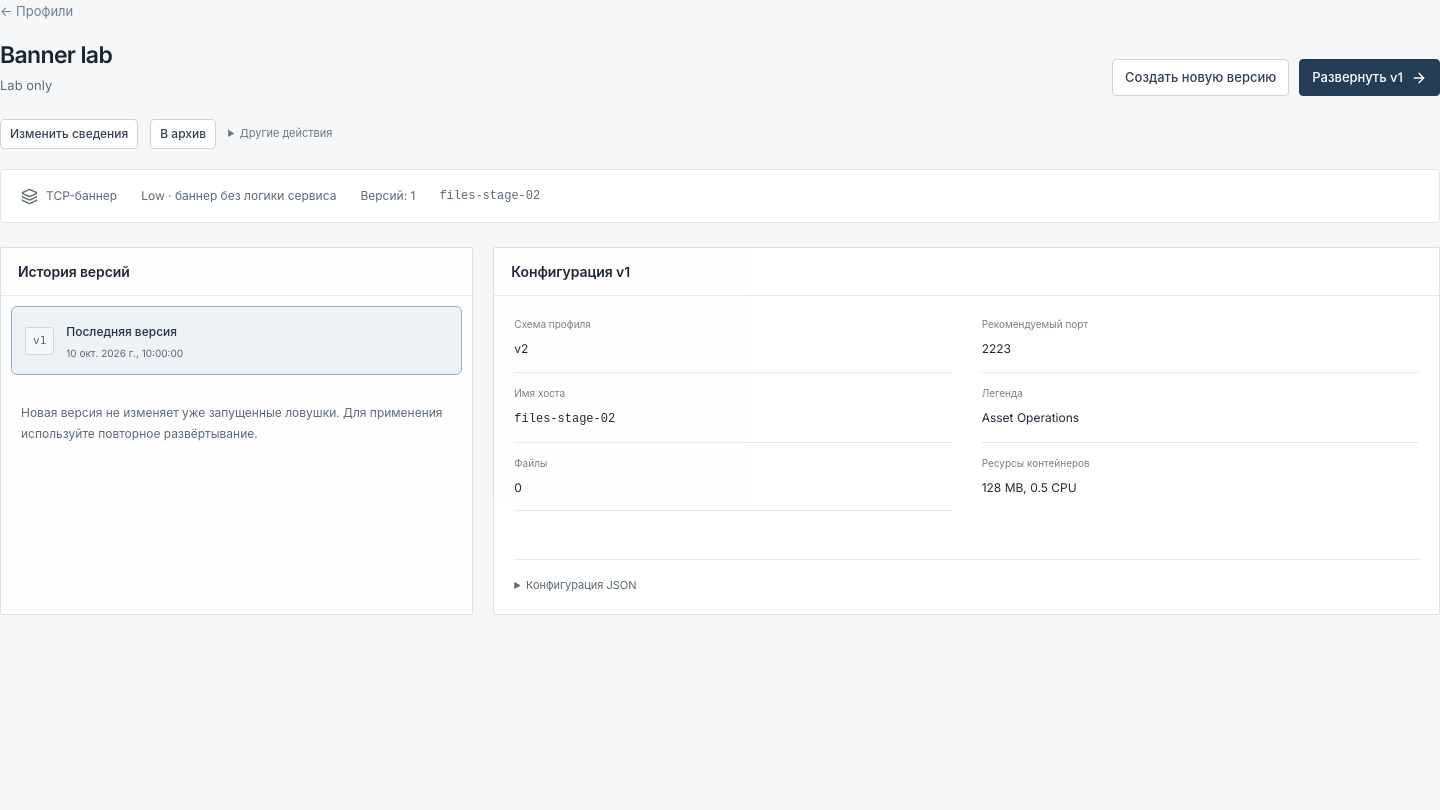
profile lifecycle › keeps an in-use profile after actual server deletion rejection
Click the heading "Другие действия" at (280, 134), box [228,124,332,144]
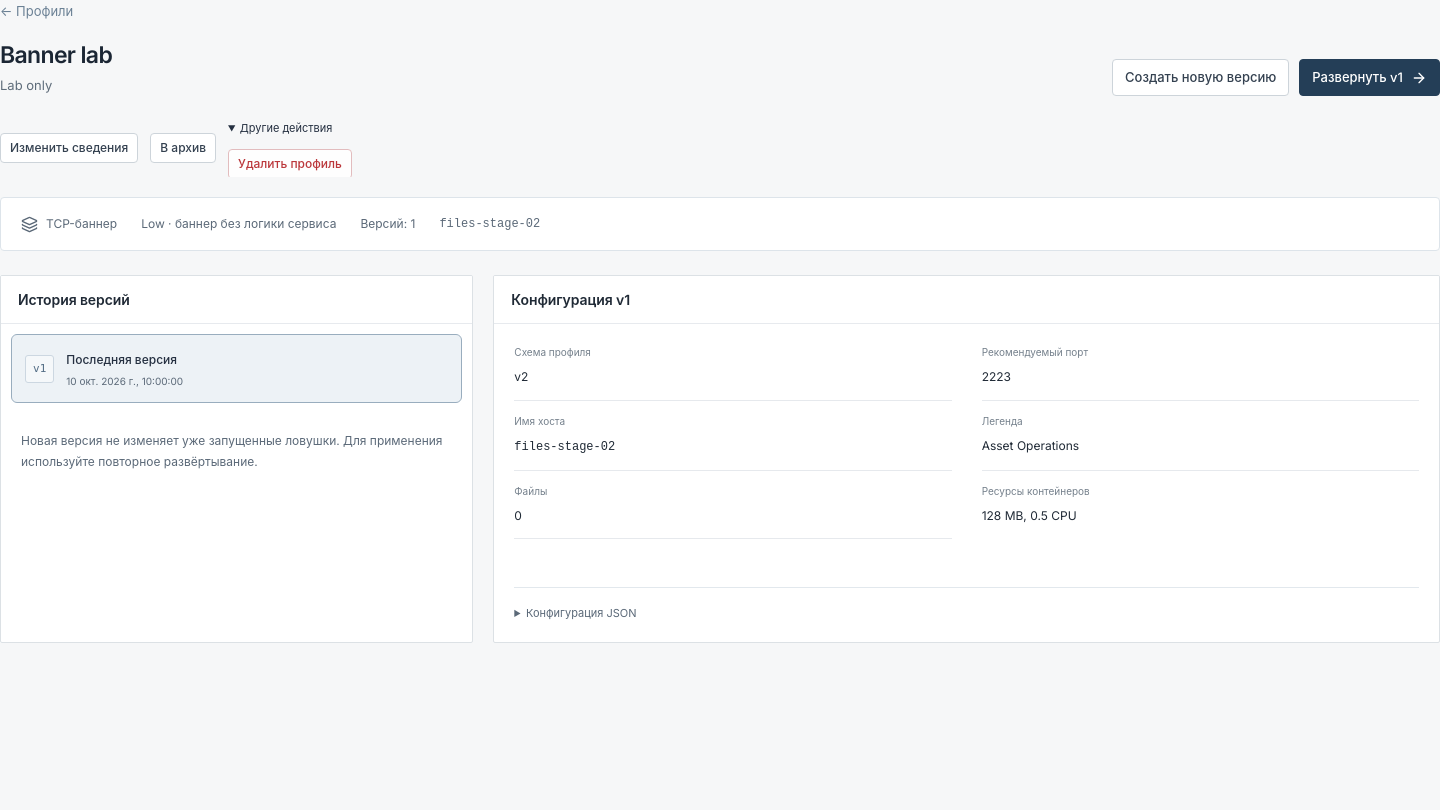
Click the button "Удалить профиль" at (290, 164), box [228,149,352,179]
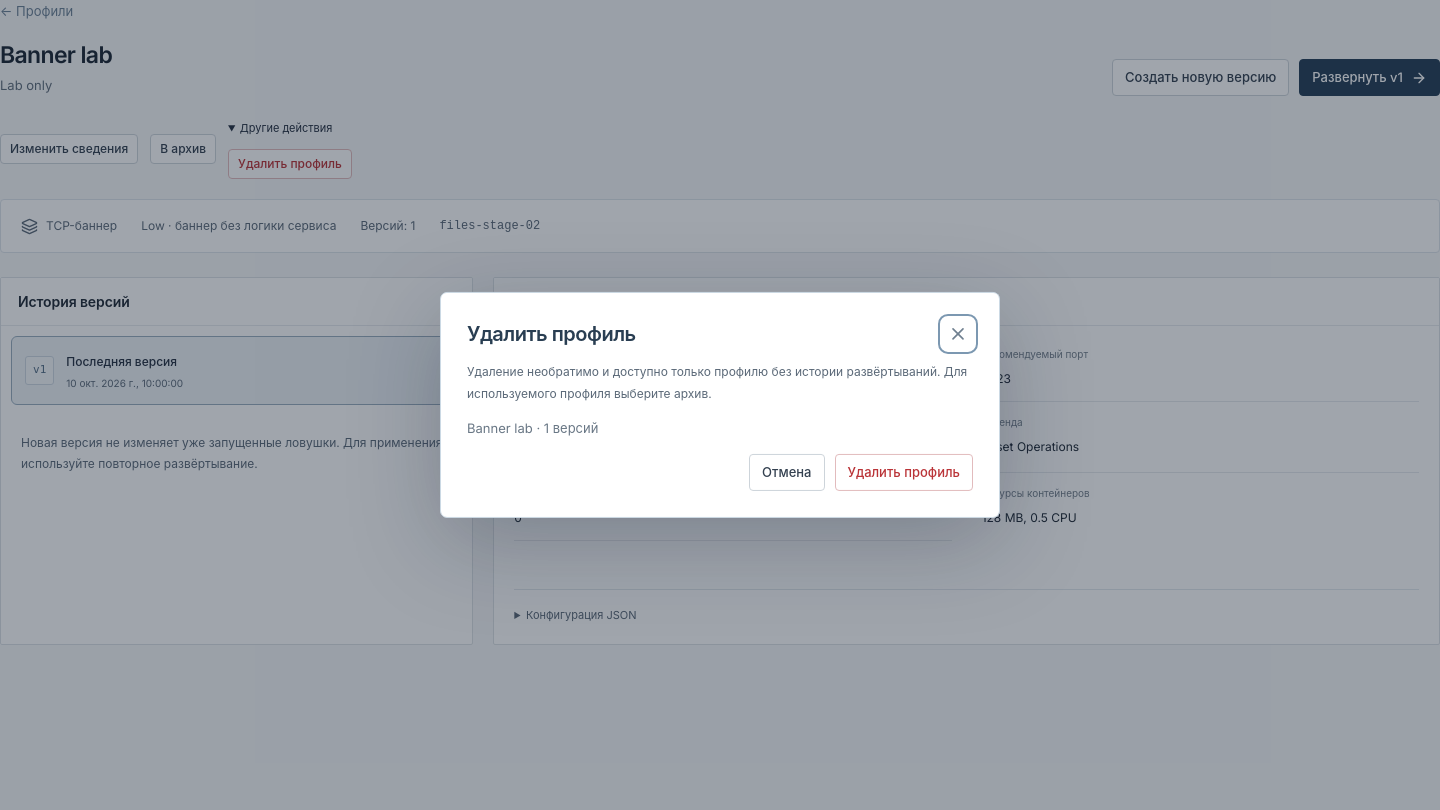
Click the button "Удалить профиль" at (904, 472), box [834,454,973,491]
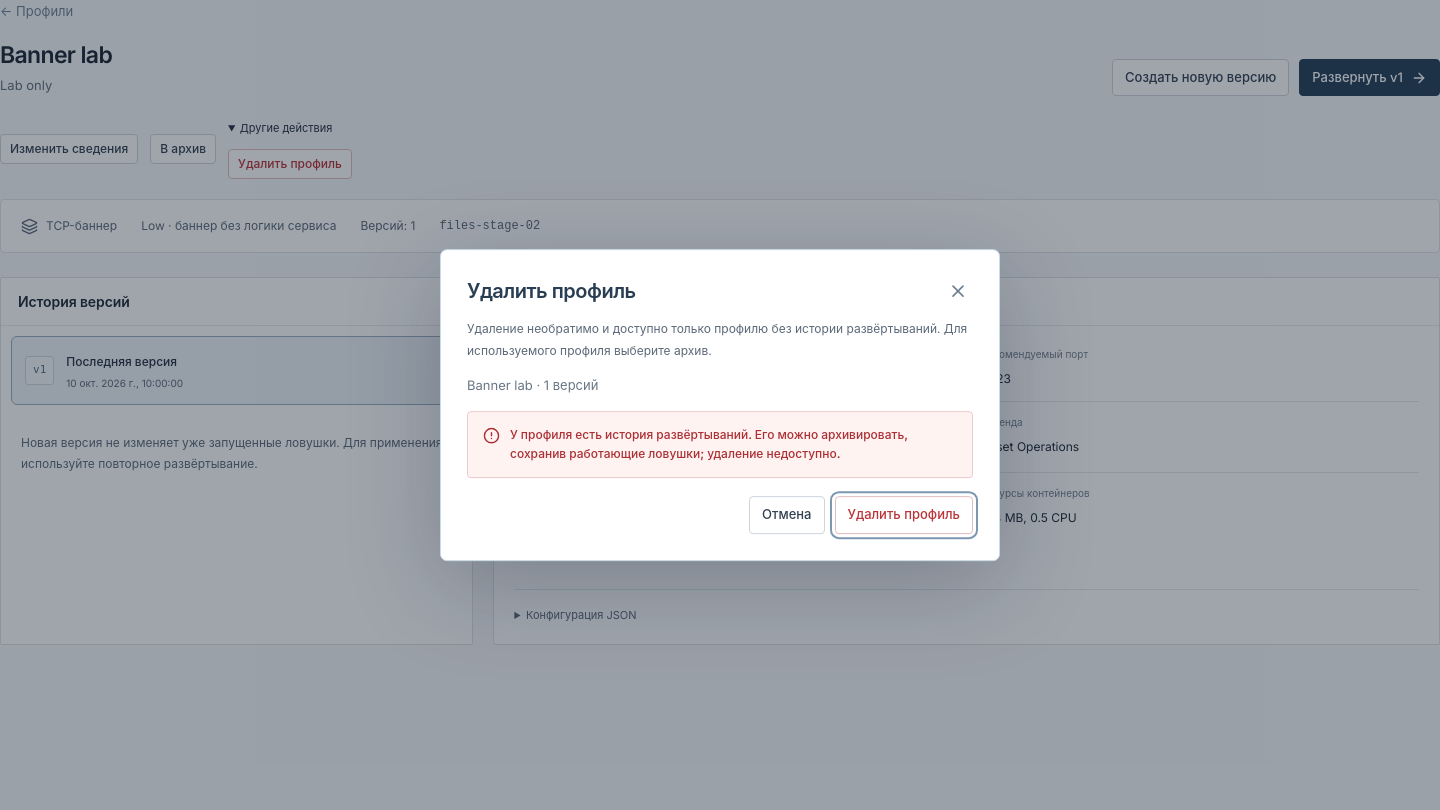
Expected: the message shows "история", [510,427,908,462]
